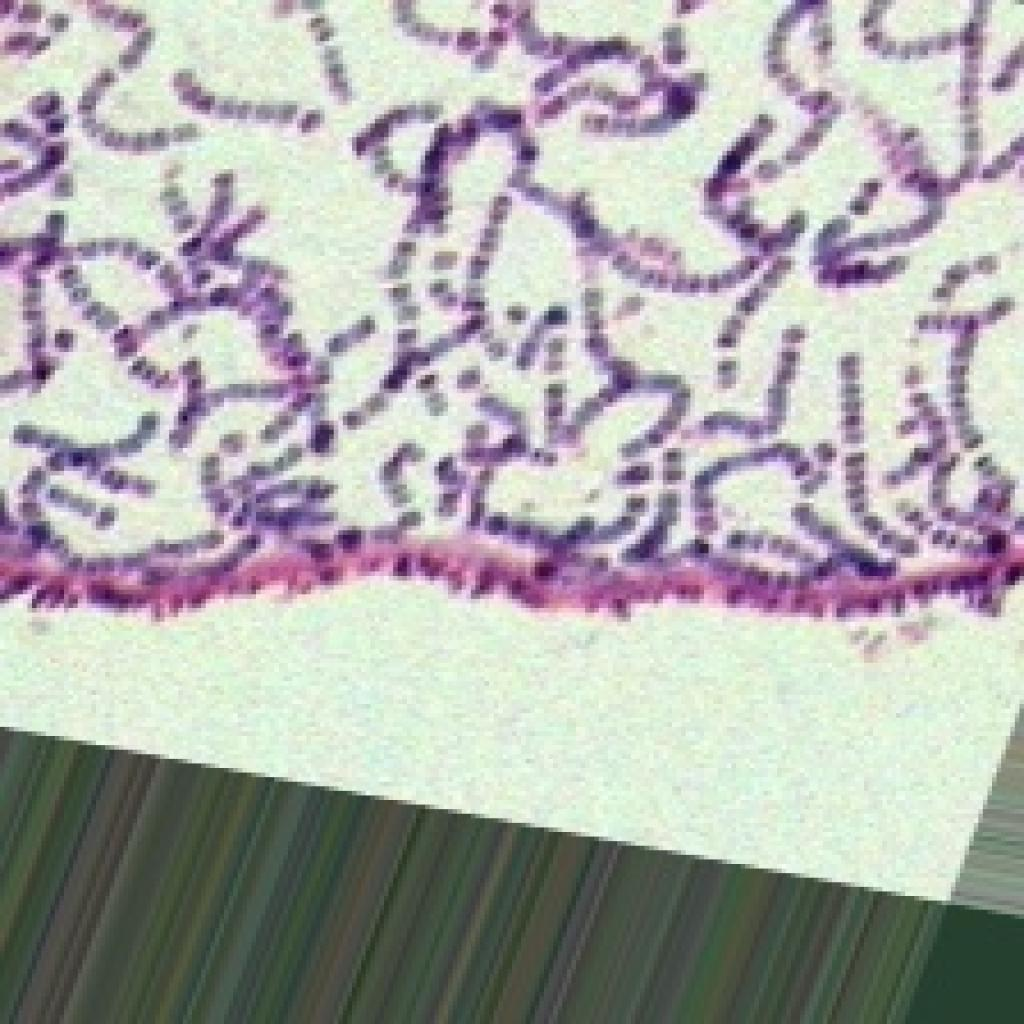Sphericalbacteria: (0, 0, 1019, 649)
